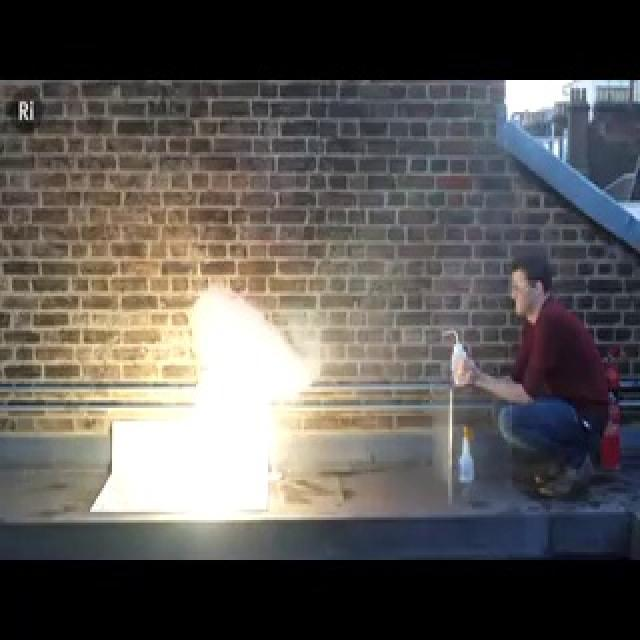fire: (149, 416, 253, 526)
